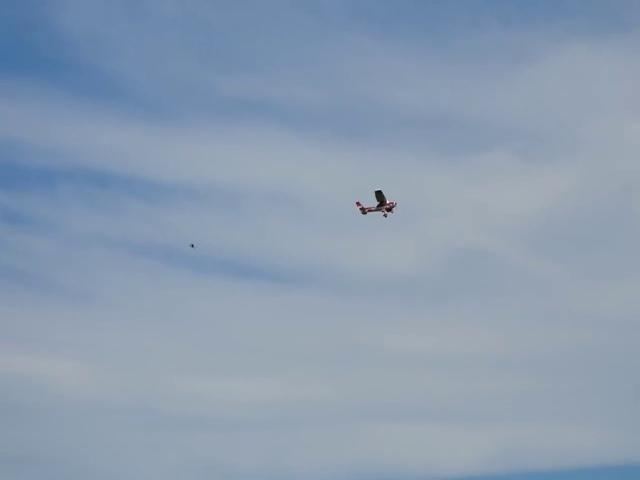Airplane: (356, 189, 397, 217)
